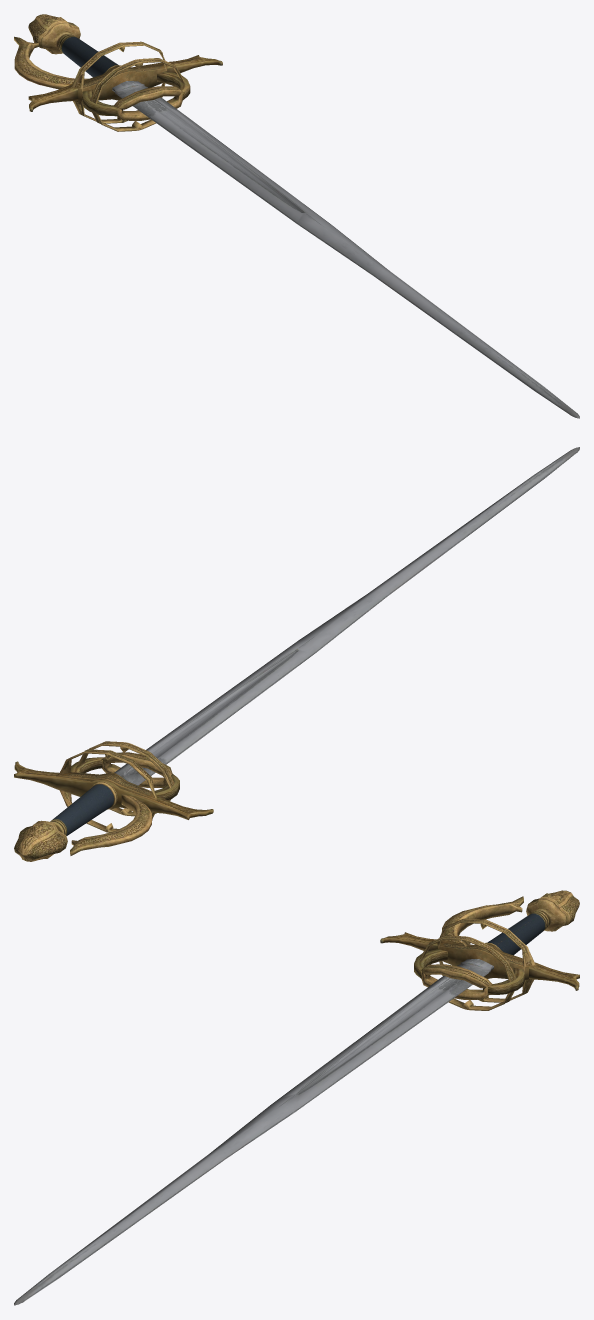
The model's file is miraz-sword-compressed.glb.
3 renders of one model, top to bottom at view 1: azimuth 30°, elevation 25°; view 2: azimuth 150°, elevation 25°; view 3: azimuth 330°, elevation 25°, orthographic. The views are drawn at different scales.
Visible parts, largest first — view 1: defaultMaterial (×3); view 2: defaultMaterial (×3); view 3: defaultMaterial (×3).
Part boxes in pixels (x1,y1,x2,y2): defaultMaterial (×3): (14,14,579,418); defaultMaterial (×3): (14,447,579,861); defaultMaterial (×3): (14,890,579,1305).
Size of the model in its own units: 0.4099 by 0.1563 by 2.
3 materials, 3 textured.
